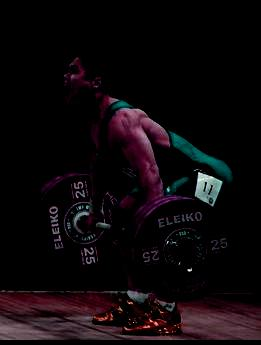Barbell: (193, 248, 209, 263)
